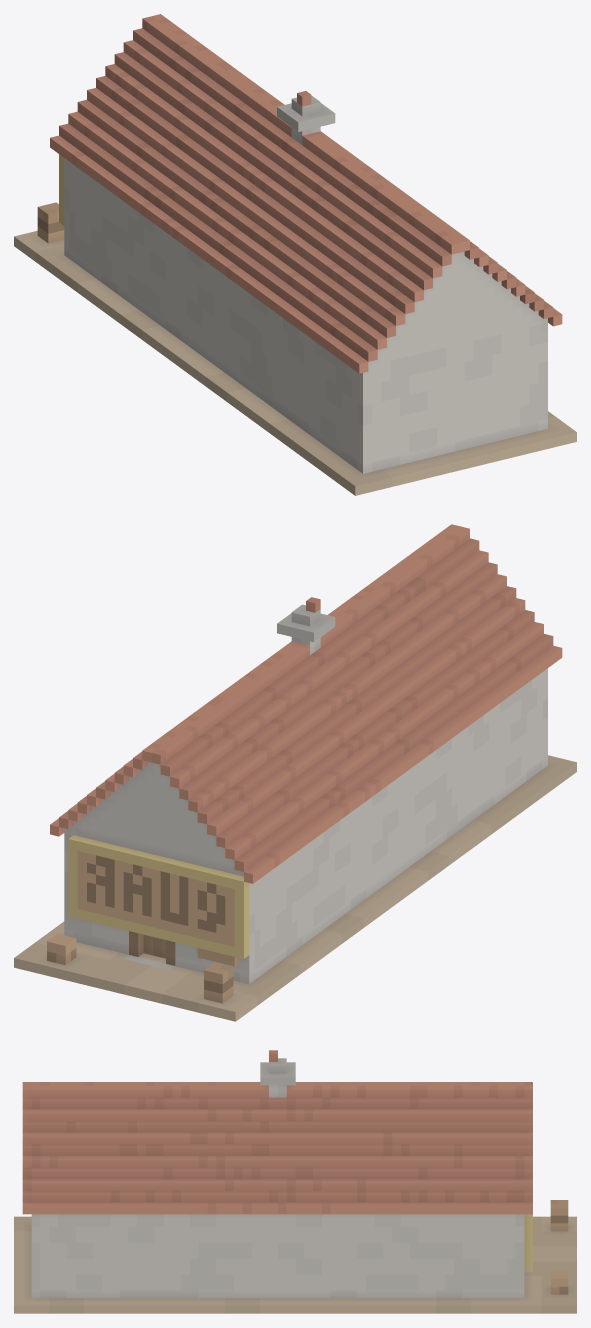
File: quarry.glb
3 renders of one model, top to bottom at view 1: azimuth 30°, elevation 25°; view 2: azimuth 150°, elevation 25°; view 3: azimuth 270°, elevation 25°, orthographic. The views are drawn at different scales.
Visible parts, largest first — view 1: quarry; view 2: quarry; view 3: quarry.
Boxes of the visible parts, x1,y1,x2,y2 form: quarry: (14,14,576,495); quarry: (14,524,576,1021); quarry: (14,1050,576,1313).
Size of the model in its own units: 3 by 3.38 by 8.
